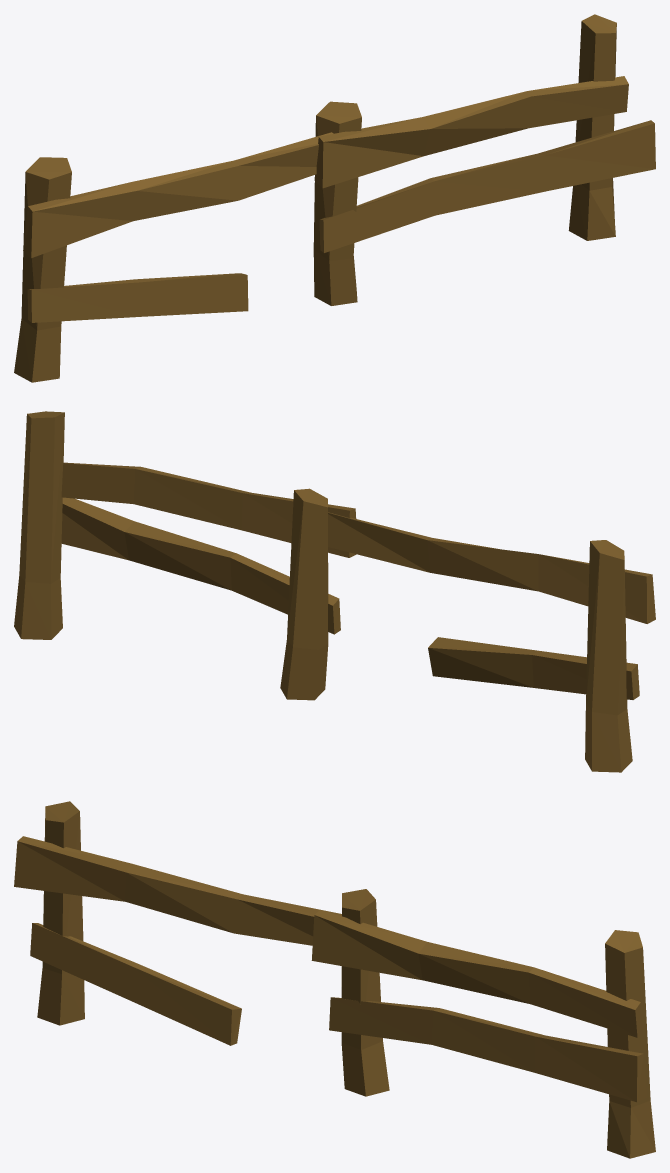
The model's file is LowPoly - Fence A.FBX.
3 renders of one model, top to bottom at view 1: azimuth 30°, elevation 25°; view 2: azimuth 150°, elevation 25°; view 3: azimuth 330°, elevation 25°, orthographic.
Parts seen in each view (by area): view 1: LowPolyFence_01; view 2: LowPolyFence_01; view 3: LowPolyFence_01.
Boxes of the visible parts, <box> form: LowPolyFence_01: <box>14,14,655,382</box>; LowPolyFence_01: <box>14,411,655,772</box>; LowPolyFence_01: <box>14,801,655,1158</box>.
Bounding box in the file's own units: 496 × 163 × 56.37.
